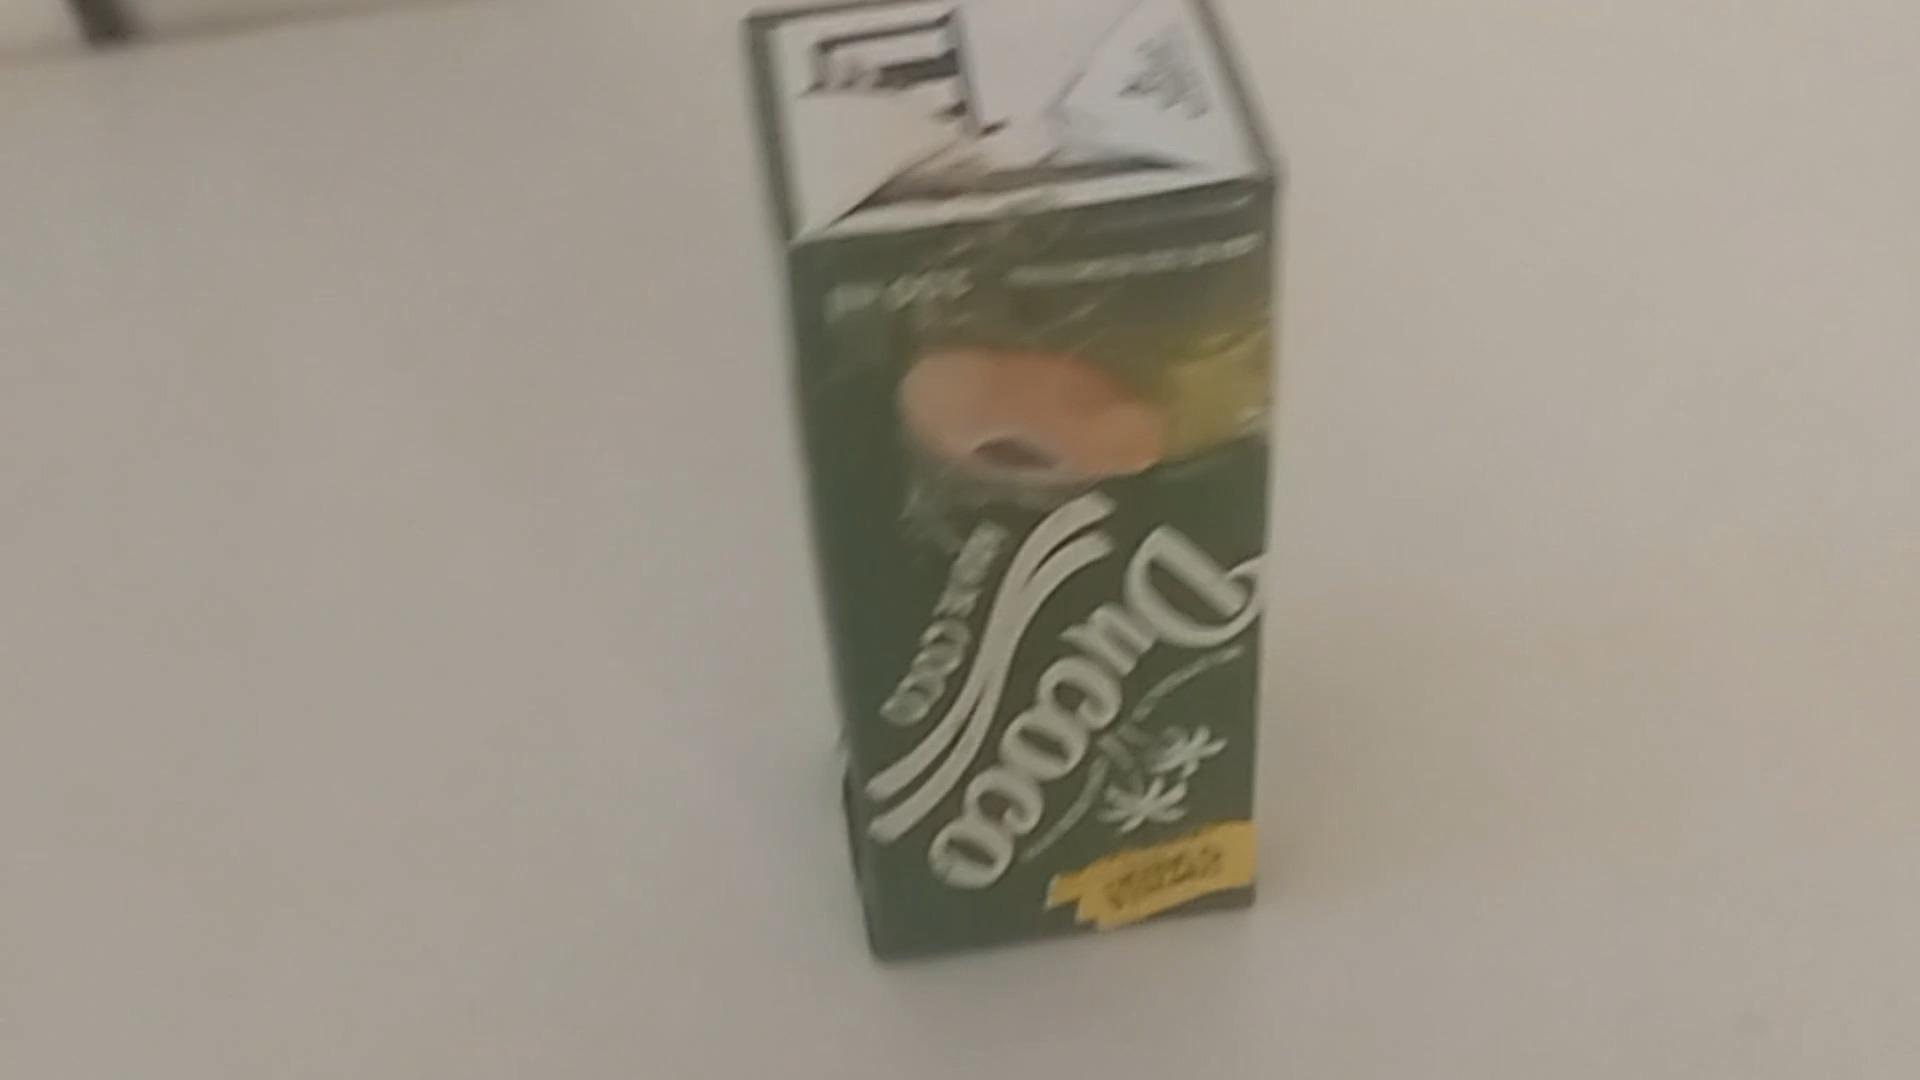coco: (741, 0, 1273, 969)
